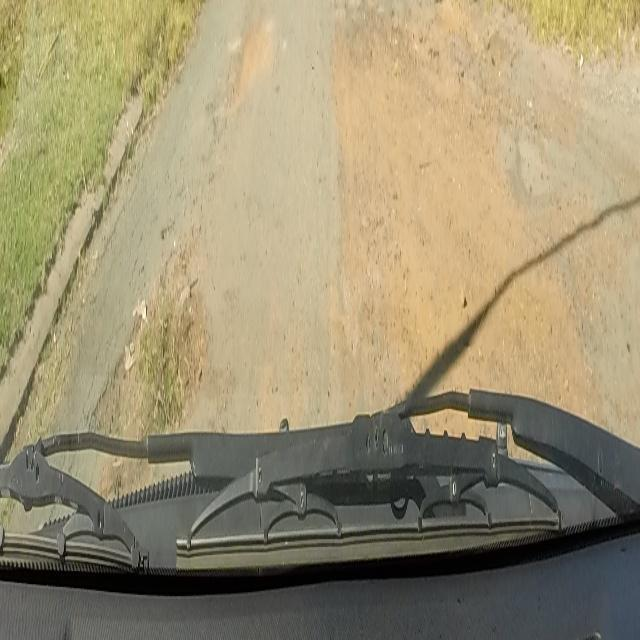pothole: (88, 284, 204, 436), (418, 0, 460, 37), (235, 0, 270, 35)
